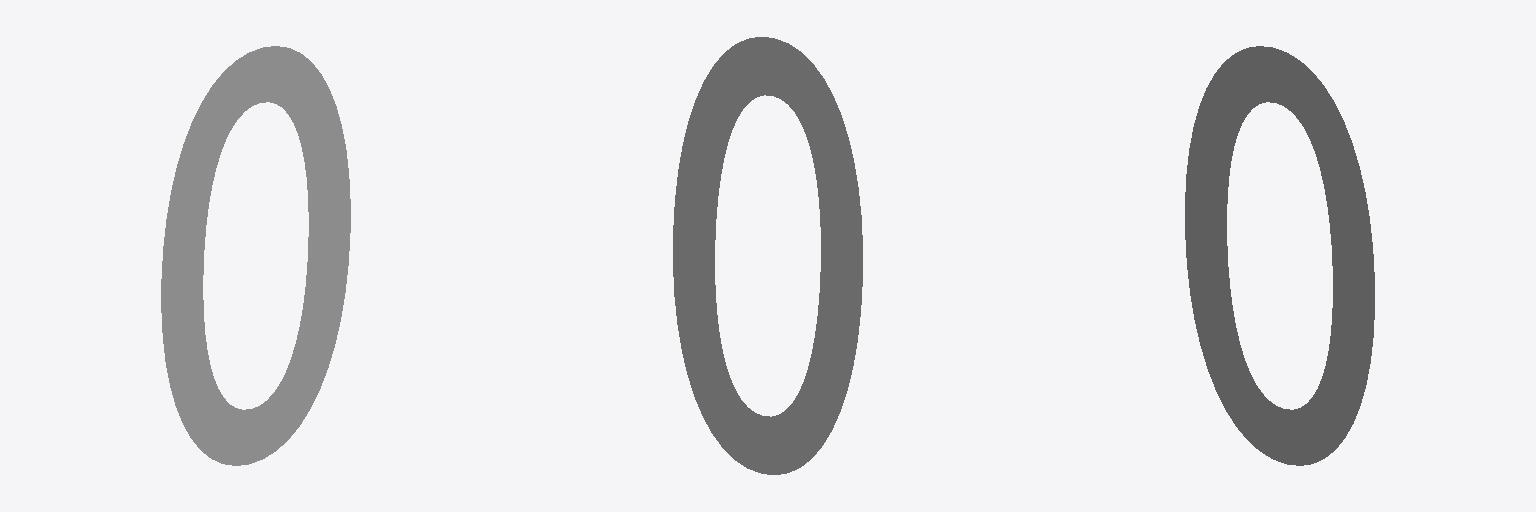
The model's file is zero.obj.
The picture shows the model from 3 angles: view 1: azimuth 30°, elevation 25°; view 2: azimuth 150°, elevation 25°; view 3: azimuth 330°, elevation 25°; orthographic projection.
Visible parts, largest first — view 1: Text; view 2: Text; view 3: Text.
Part boxes in pixels (bbox=[...]): Text: bbox=[161, 46, 350, 465]; Text: bbox=[673, 37, 862, 474]; Text: bbox=[1185, 46, 1374, 465].
Size of the model in its own units: 0.7417 by 1.59 by 0.0874.